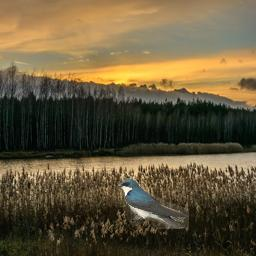Swallow: (118, 178, 189, 229)
